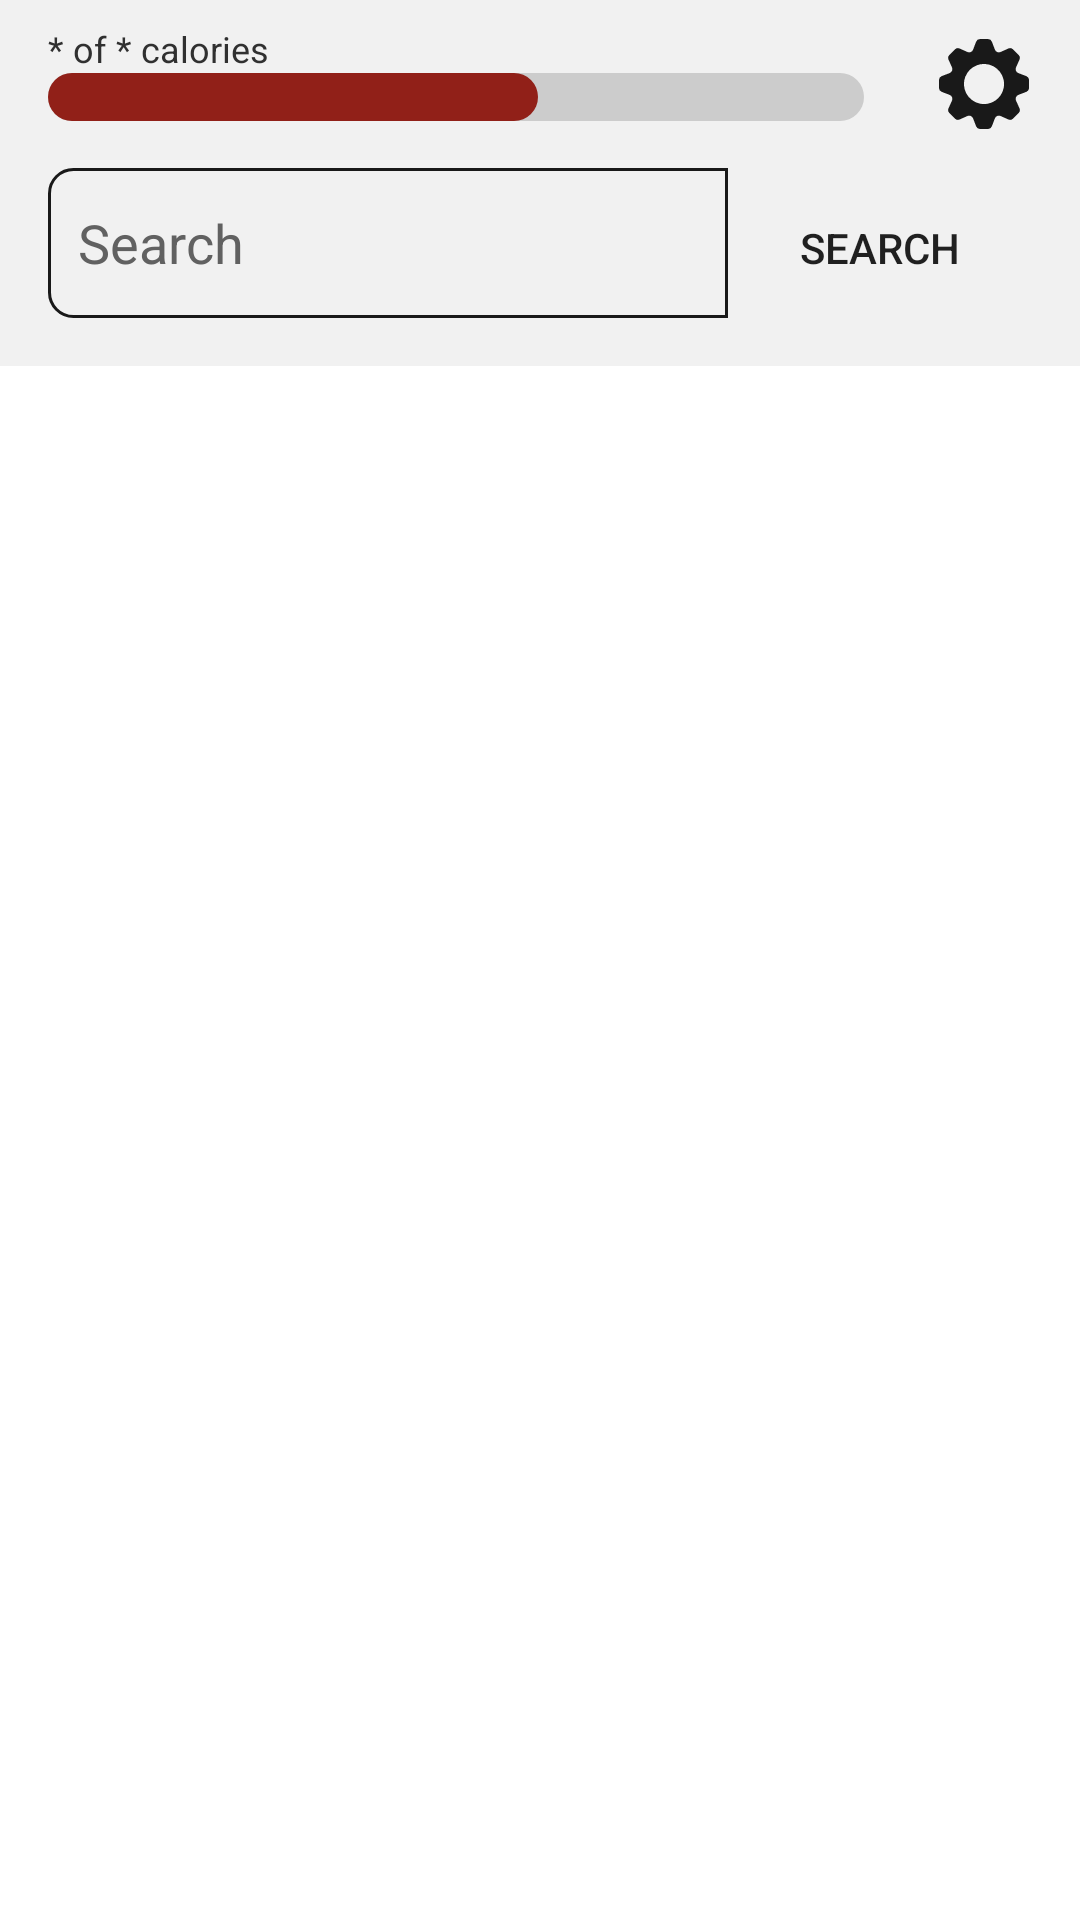

Point at icon controls on the screen. Image size 1080 × 1920, points as point (x, y).
go to settings: point (984, 84)
